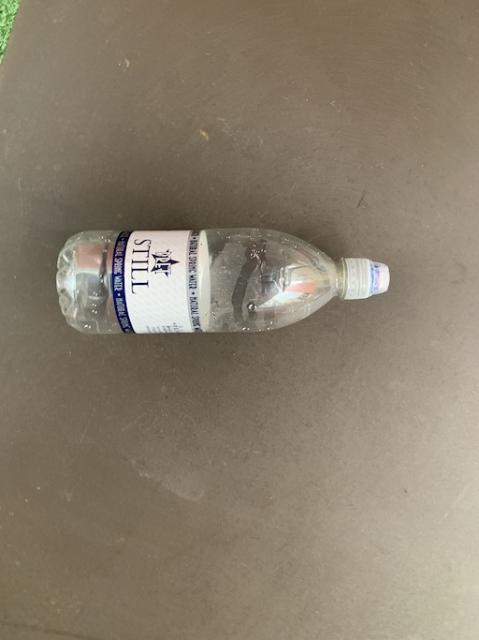plastic: (55, 227, 389, 332)
